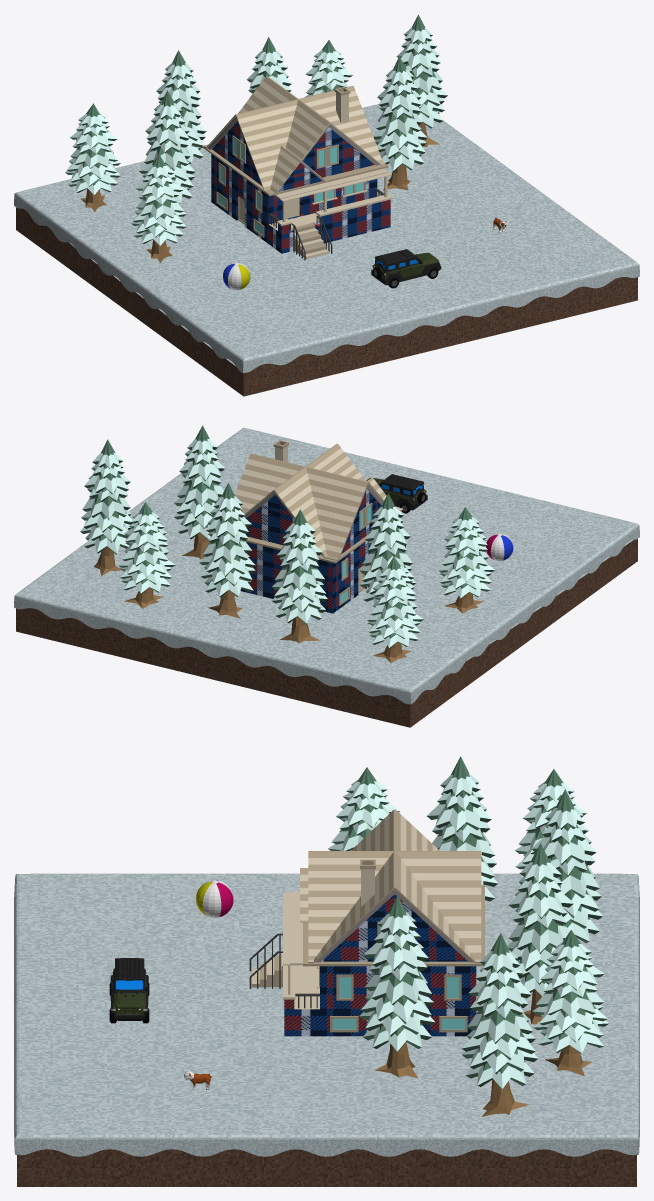
The picture shows the model from 3 angles, top to bottom: view 1: azimuth 30°, elevation 25°; view 2: azimuth 150°, elevation 25°; view 3: azimuth 270°, elevation 25°; orthographic projection. The views are drawn at different scales.
Parts seen in each view (by area): view 1: Cube.003, Cube.171, VEHICLES_JEEP, OBJRANDOM_BEACHBALL; view 2: Cube.003, Cube.171, VEHICLES_JEEP, OBJRANDOM_BEACHBALL; view 3: Cube.003, Cube.171, VEHICLES_JEEP, OBJRANDOM_BEACHBALL.
Boxes of the visible parts, x1,y1,x2,y2 form: Cube.003: (14, 14, 639, 396); Cube.171: (202, 76, 393, 260); VEHICLES_JEEP: (371, 249, 441, 288); OBJRANDOM_BEACHBALL: (223, 262, 250, 290); Cube.003: (14, 425, 639, 727); Cube.171: (234, 440, 405, 613); VEHICLES_JEEP: (366, 474, 427, 513); OBJRANDOM_BEACHBALL: (486, 533, 513, 560); Cube.003: (14, 756, 639, 1186); Cube.171: (249, 809, 484, 1036); VEHICLES_JEEP: (109, 958, 149, 1023); OBJRANDOM_BEACHBALL: (196, 880, 233, 917).
Bounding box in the file's own units: 4040 × 1793 × 4040.
32 materials, 4 textured.
